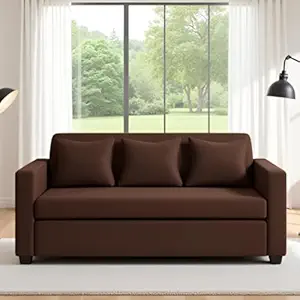3seatersofa: (15, 134, 285, 263)
backrest: (52, 133, 255, 186)
base: (35, 222, 266, 255)
leftarmrest: (255, 160, 285, 254)
leg: (269, 256, 281, 263), (20, 256, 31, 263)
pillow: (187, 138, 252, 185), (50, 138, 113, 186), (120, 139, 181, 185)
rightarmrest: (16, 160, 46, 255)
seat: (35, 188, 266, 219)
